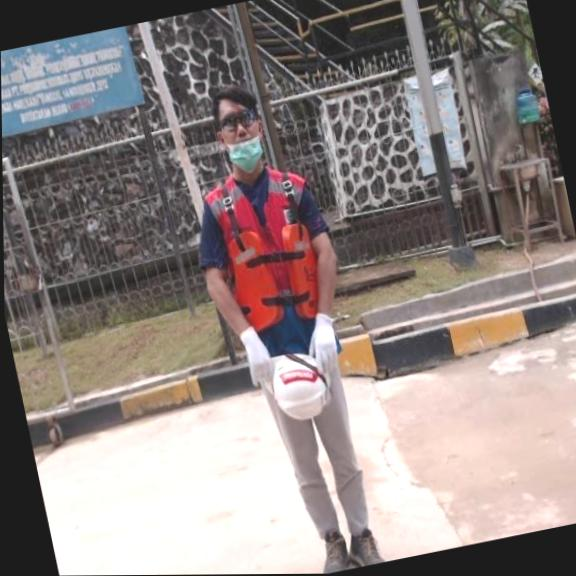safety_vest: (226, 222, 323, 331)
